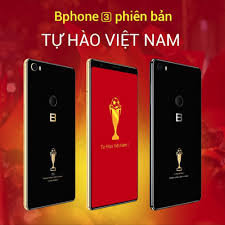bphone: (22, 57, 77, 210), (85, 57, 140, 210), (147, 56, 202, 209)
